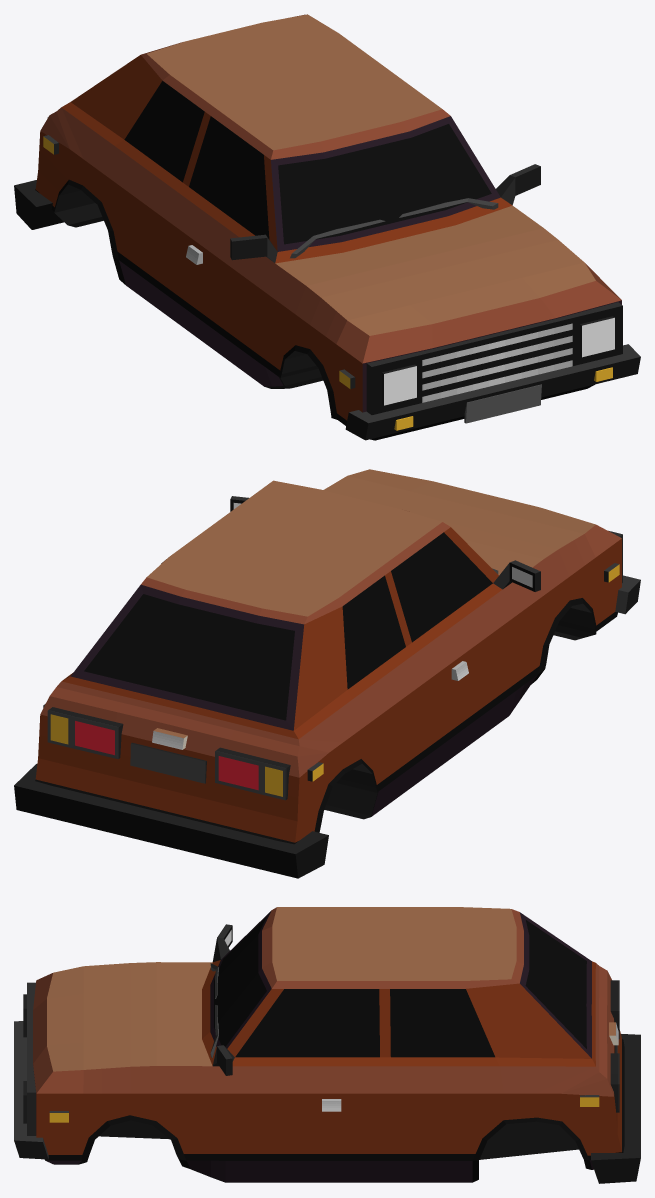
The model's file is Coupe.005.fbx.
The picture shows the model from 3 angles, top to bottom: view 1: azimuth 30°, elevation 25°; view 2: azimuth 150°, elevation 25°; view 3: azimuth 270°, elevation 25°; orthographic projection. The views are drawn at different scales.
Parts seen in each view (by area): view 1: Coupe.005; view 2: Coupe.005; view 3: Coupe.005.
Boxes of the visible parts, bbox=[...] form: Coupe.005: bbox=[14, 14, 640, 440]; Coupe.005: bbox=[14, 469, 640, 878]; Coupe.005: bbox=[14, 907, 640, 1183].
Size of the model in its own units: 1.75 by 1.14 by 3.44.
